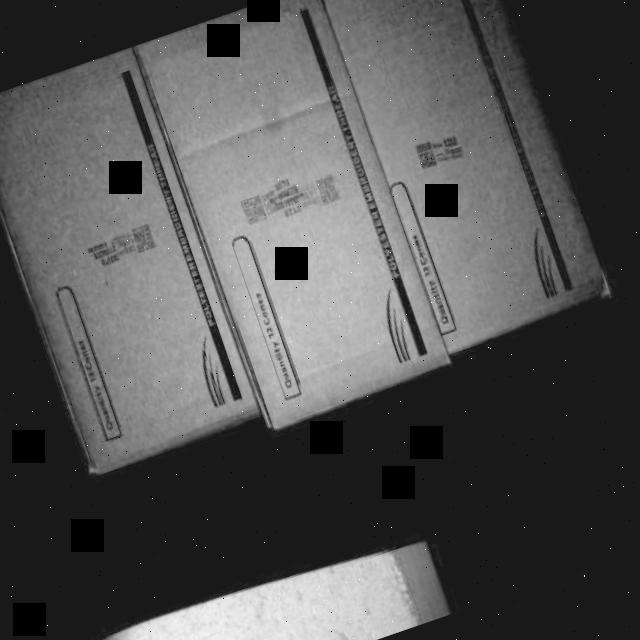box: (139, 0, 455, 429), (0, 60, 263, 473), (322, 0, 612, 348)
